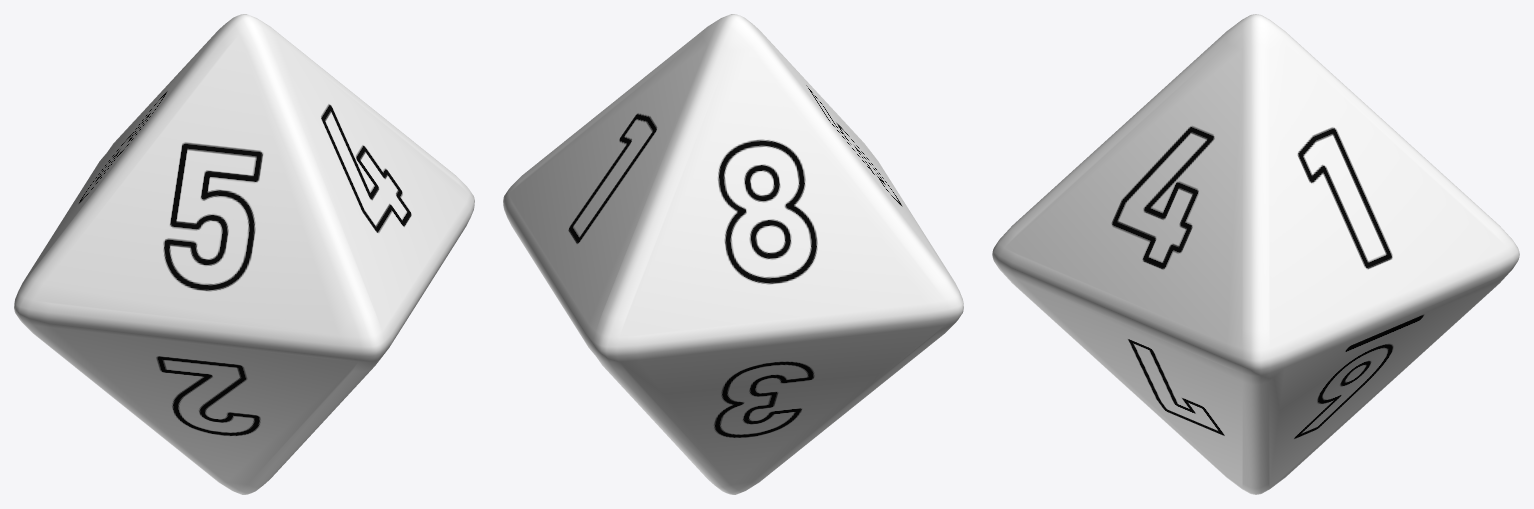
The picture shows the model from 3 angles, left to right: view 1: azimuth 30°, elevation 25°; view 2: azimuth 150°, elevation 25°; view 3: azimuth 270°, elevation 25°; orthographic projection.
Parts seen in each view (by area): view 1: Solid.003; view 2: Solid.003; view 3: Solid.003.
Boxes of the visible parts, bbox=[...] form: Solid.003: bbox=[14, 14, 474, 494]; Solid.003: bbox=[503, 14, 963, 494]; Solid.003: bbox=[992, 14, 1519, 494].
Size of the model in its own units: 1.82 by 1.82 by 1.82.
1 material, 1 textured.
